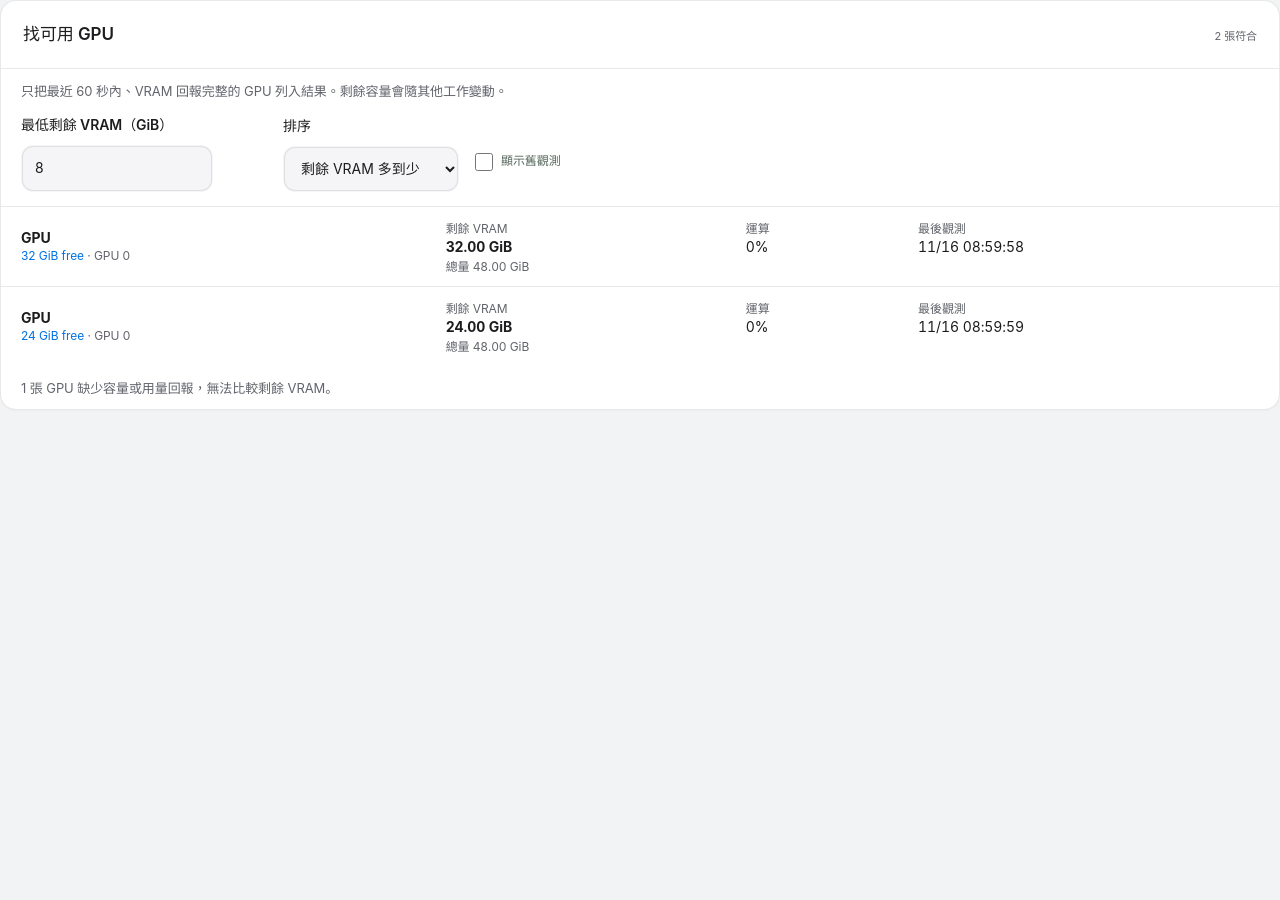
filters by reported remaining VRAM and keeps older measurements out of the live results
This screenshot has width=1280, height=900.
Replace the text in the number field labelled "最低剩餘 VRAM（GiB）" with "3": [117, 169] box [21, 145, 213, 192]
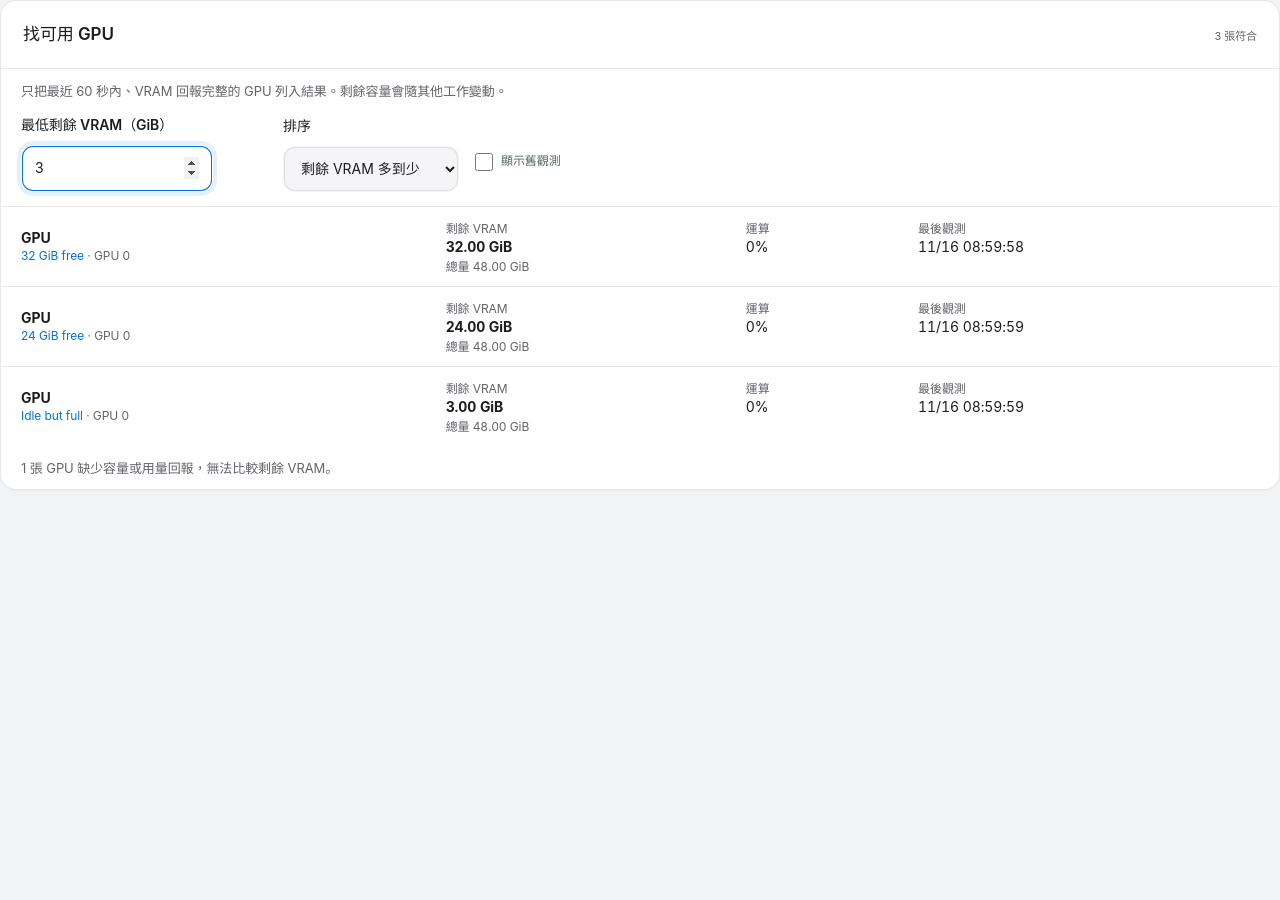
Select "剩餘 VRAM 少到多" in the dropdown labelled "排序": [371, 169] box [283, 146, 459, 192]
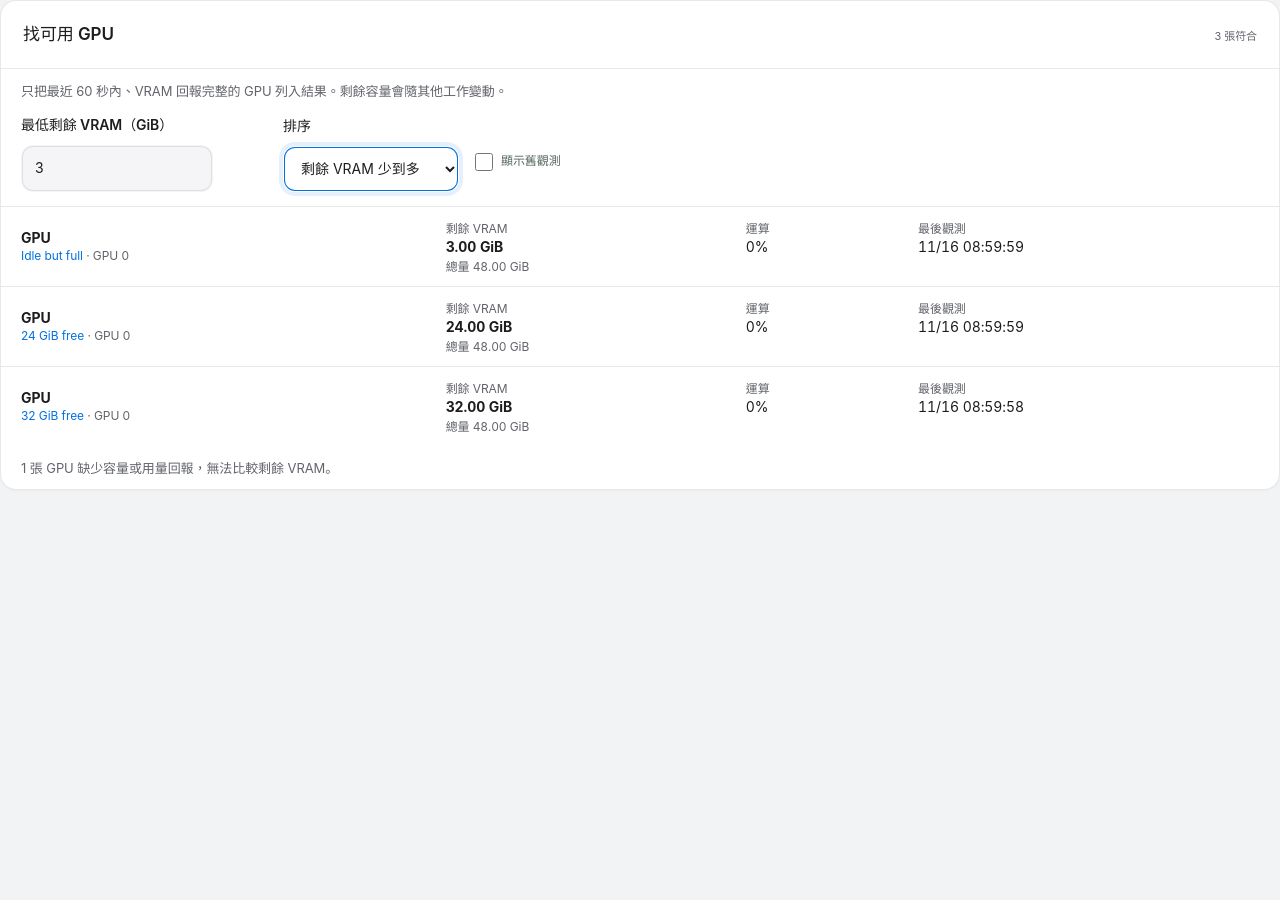
Click the checkbox labelled "顯示舊觀測": [484, 162] box [475, 153, 493, 171]
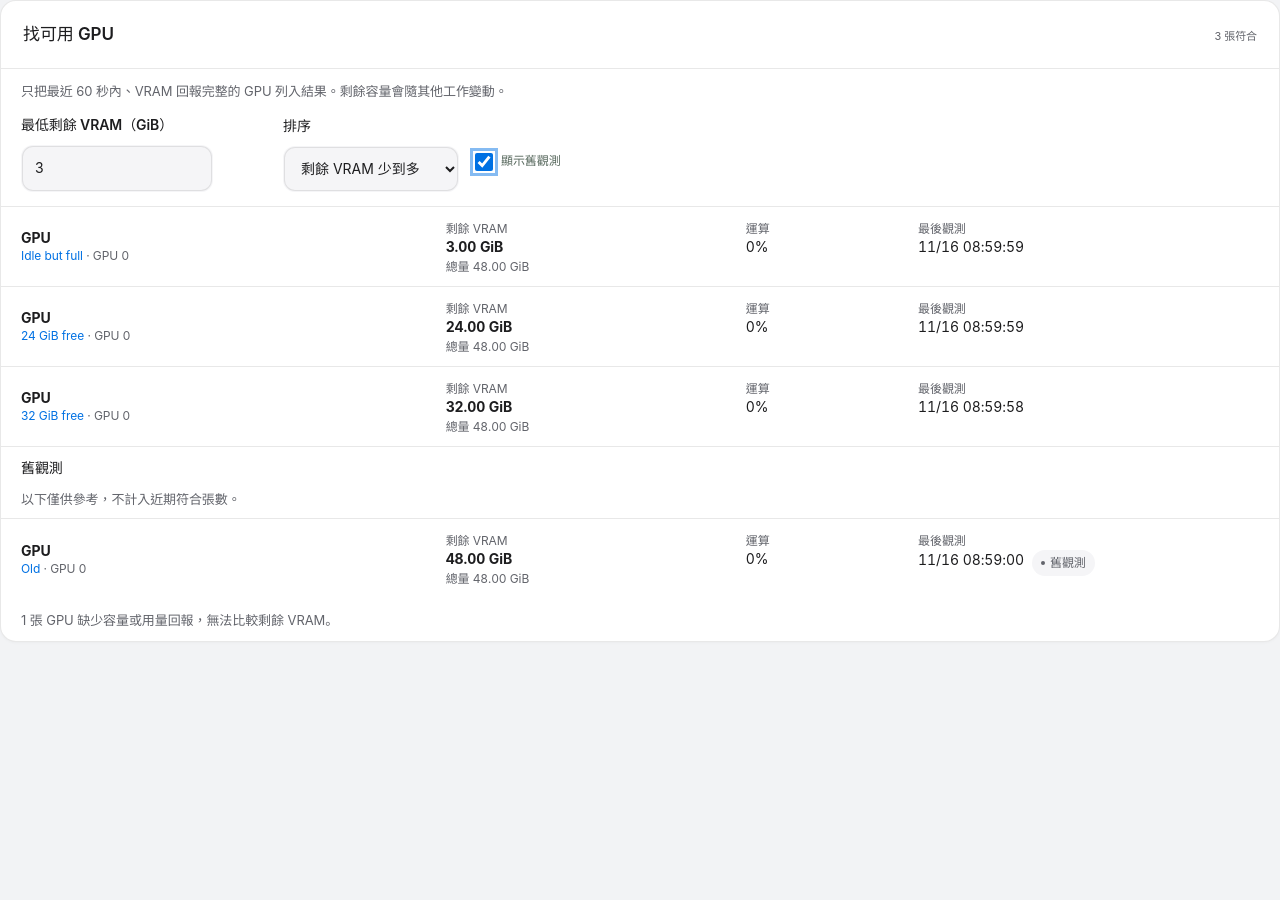
Expected: the text "1 張 GPU 缺少容量或用量回報，無法比較剩餘 VRAM。" is shown, [21, 612, 338, 628]
Now the message reads "3 張符合", box [1214, 27, 1257, 43]
Now the link "Old" is shown, box [21, 561, 40, 576]
